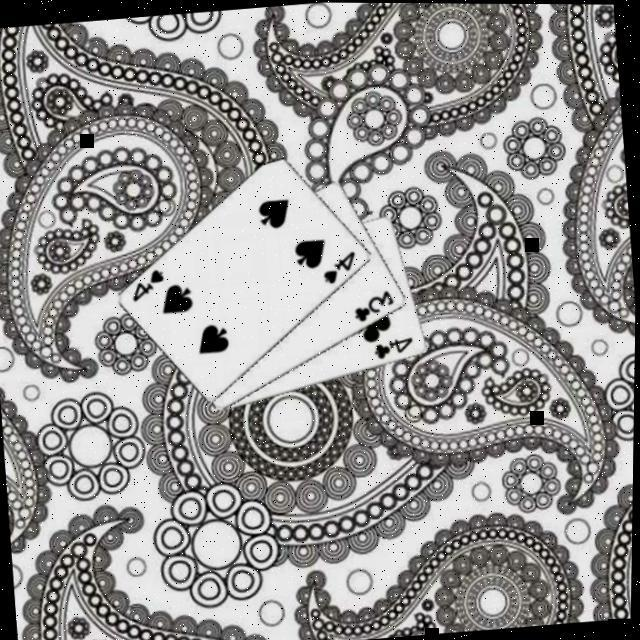3C: (352, 286, 401, 326)
4C: (372, 334, 420, 363)
4S: (322, 248, 363, 287), (129, 265, 170, 304)
